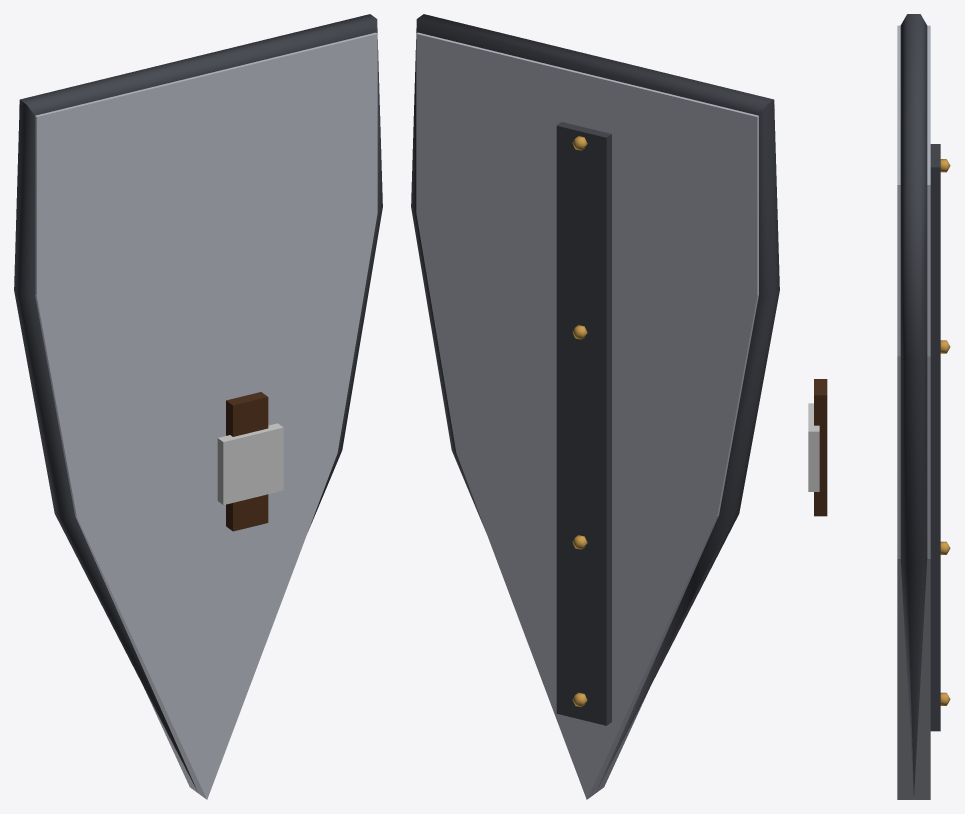
File: shield_kite.glb
The picture shows the model from 3 angles, left to right: view 1: azimuth 30°, elevation 25°; view 2: azimuth 150°, elevation 25°; view 3: azimuth 270°, elevation 25°; orthographic projection. The views are drawn at different scales.
Visible parts, largest first — view 1: Shield_Kite_Steel, Shield_Kite_Darksteel, Shield_Kite_Trim, Shield_Kite_Leather; view 2: Shield_Kite_Steel, Shield_Kite_Darksteel, Shield_Kite_Brass; view 3: Shield_Kite_Darksteel, Shield_Kite_Steel, Shield_Kite_Leather, Shield_Kite_Trim, Shield_Kite_Brass.
Part boxes in pixels (bbox=[...]): Shield_Kite_Steel: bbox=[19, 32, 377, 799]; Shield_Kite_Darksteel: bbox=[14, 14, 382, 789]; Shield_Kite_Trim: bbox=[217, 423, 283, 504]; Shield_Kite_Leather: bbox=[226, 392, 268, 531]; Shield_Kite_Steel: bbox=[416, 32, 774, 799]; Shield_Kite_Darksteel: bbox=[411, 14, 779, 789]; Shield_Kite_Brass: bbox=[572, 136, 587, 707]; Shield_Kite_Darksteel: bbox=[900, 14, 940, 797]; Shield_Kite_Steel: bbox=[897, 25, 930, 799]; Shield_Kite_Leather: bbox=[814, 379, 827, 516]; Shield_Kite_Trim: bbox=[808, 403, 819, 491]; Shield_Kite_Brass: bbox=[940, 159, 950, 705].
Size of the model in its own units: 0.3607 by 0.6993 by 0.128.
